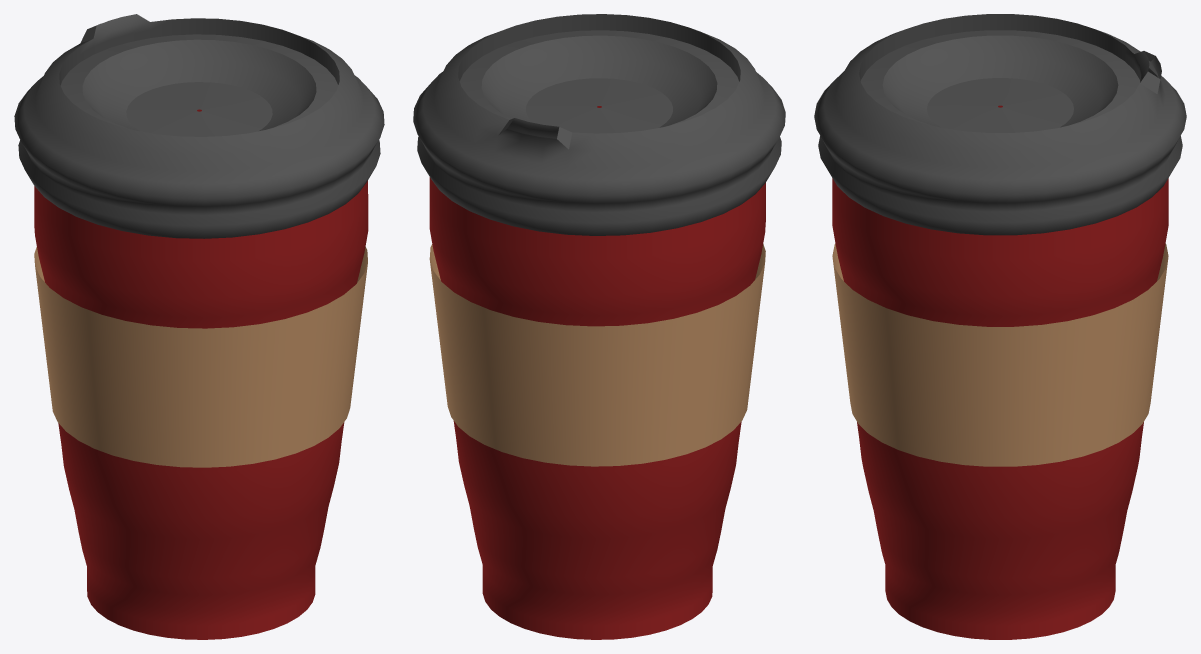
The model's file is CoffeCup 1.fbx.
3 views of the same model, side by side, from view 1: azimuth 30°, elevation 25°; view 2: azimuth 150°, elevation 25°; view 3: azimuth 270°, elevation 25° (orthographic).
Visible parts, largest first — view 1: Cylinder, Cylinder.001, Cylinder.002; view 2: Cylinder, Cylinder.001, Cylinder.002; view 3: Cylinder, Cylinder.001, Cylinder.002.
Part boxes in pixels (<box>): Cylinder: <box>34,109,368,639</box>; Cylinder.001: <box>14,14,384,238</box>; Cylinder.002: <box>34,246,367,467</box>; Cylinder: <box>429,106,765,639</box>; Cylinder.001: <box>413,14,785,235</box>; Cylinder.002: <box>429,244,765,466</box>; Cylinder: <box>832,105,1168,639</box>; Cylinder.001: <box>814,14,1186,235</box>; Cylinder.002: <box>832,243,1168,466</box>.
Size of the model in its own units: 998 by 1555 by 1001.
